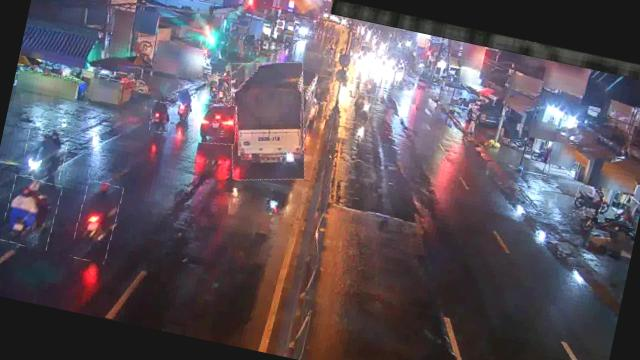Bike: (0, 174, 62, 250), (70, 180, 123, 266), (20, 126, 70, 182), (572, 184, 605, 217), (146, 100, 172, 134), (349, 91, 375, 125), (172, 86, 194, 122), (212, 76, 233, 106), (203, 73, 220, 100)
Car: (190, 99, 242, 148)
Truck: (215, 52, 322, 190)
